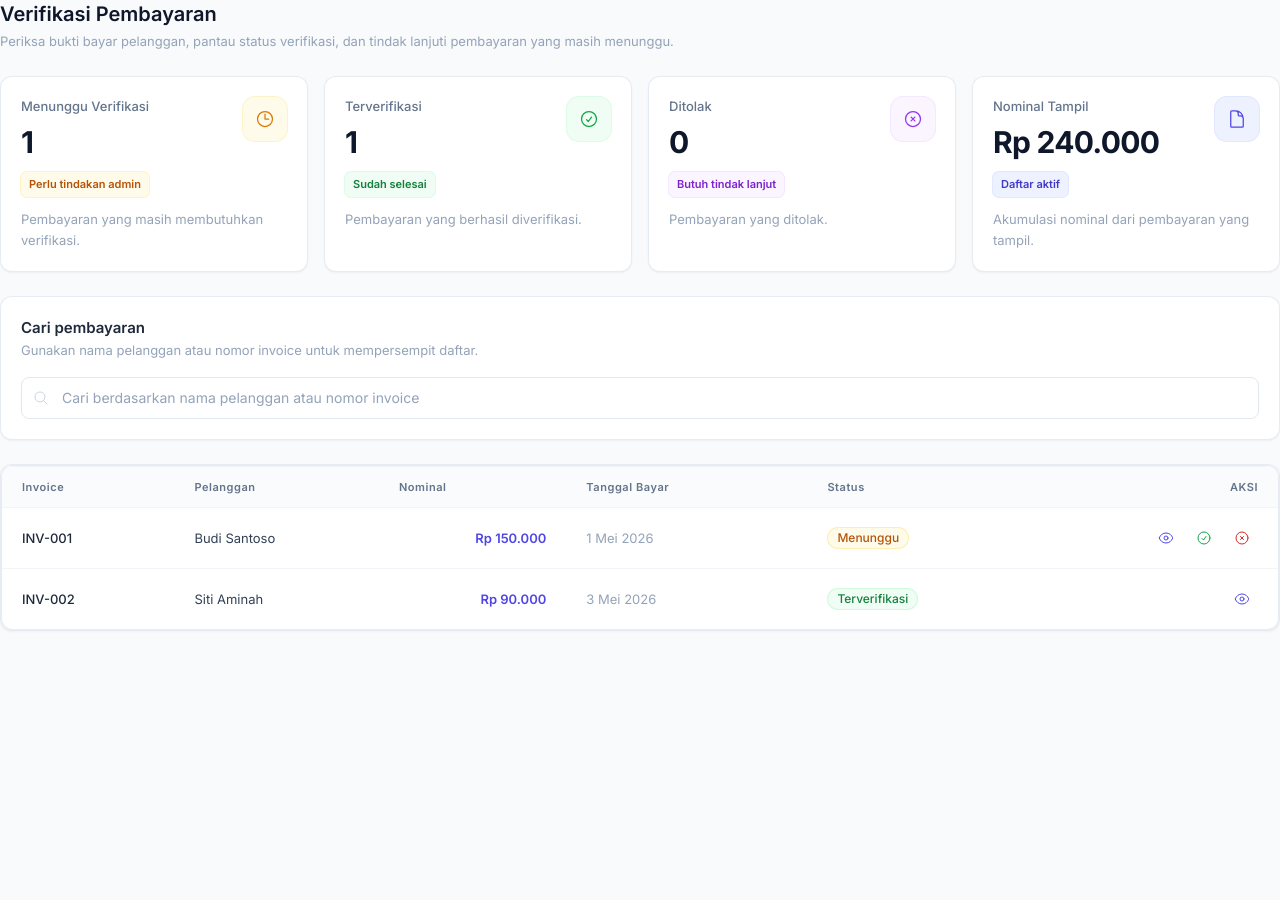
Test: TenantPaymentVerification › verifies a pending payment from the modal flow
The image size is (1280, 900).
Step 1. Click the button named "Verifikasi pembayaran" → point(1204, 538), box x1=1188 y1=522 x2=1220 y2=554
(page scrolled)
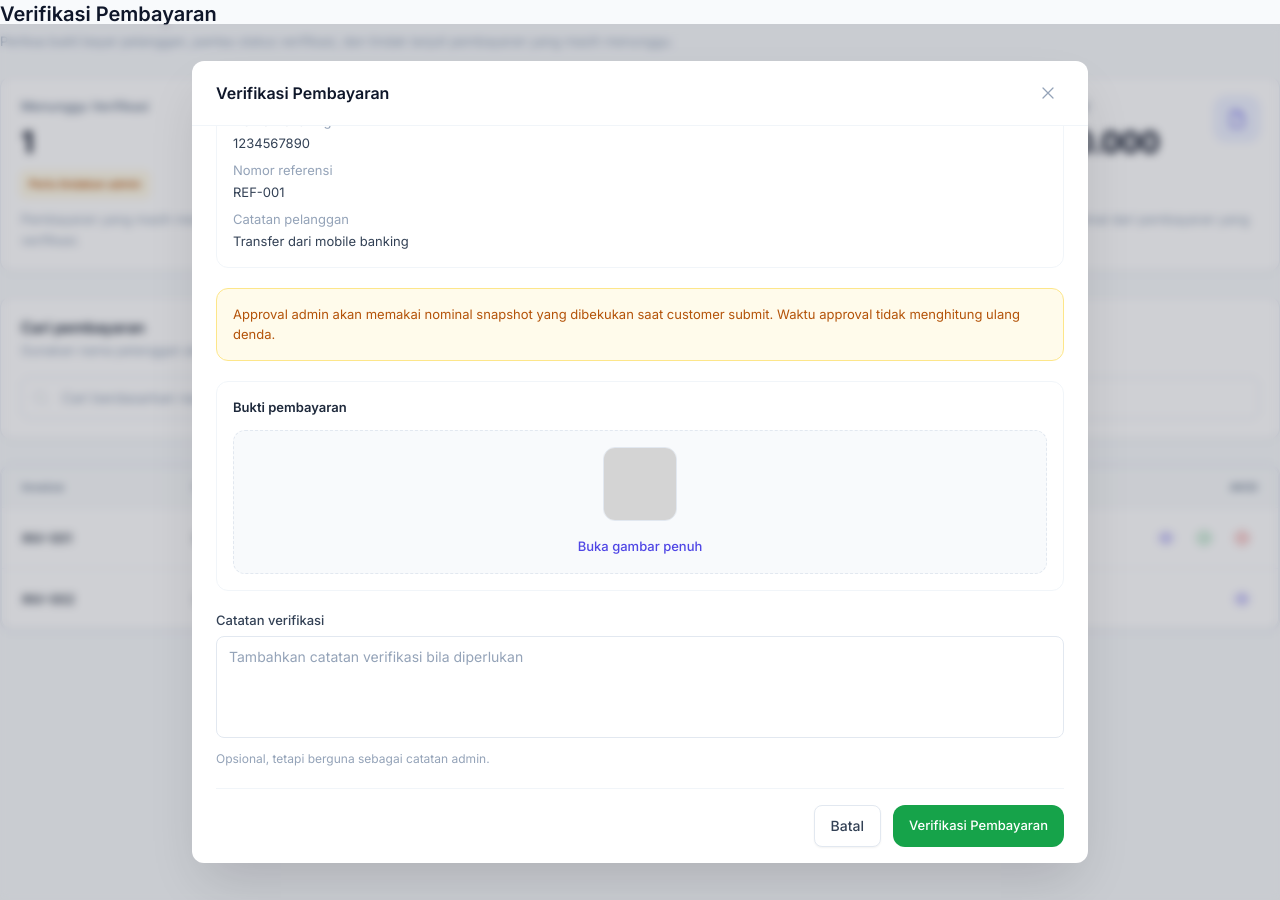
Step 2. Type "Mutasi bank sudah sesuai" into the text box labelled "Catatan verifikasi" → point(640, 687), box x1=216 y1=636 x2=1064 y2=738
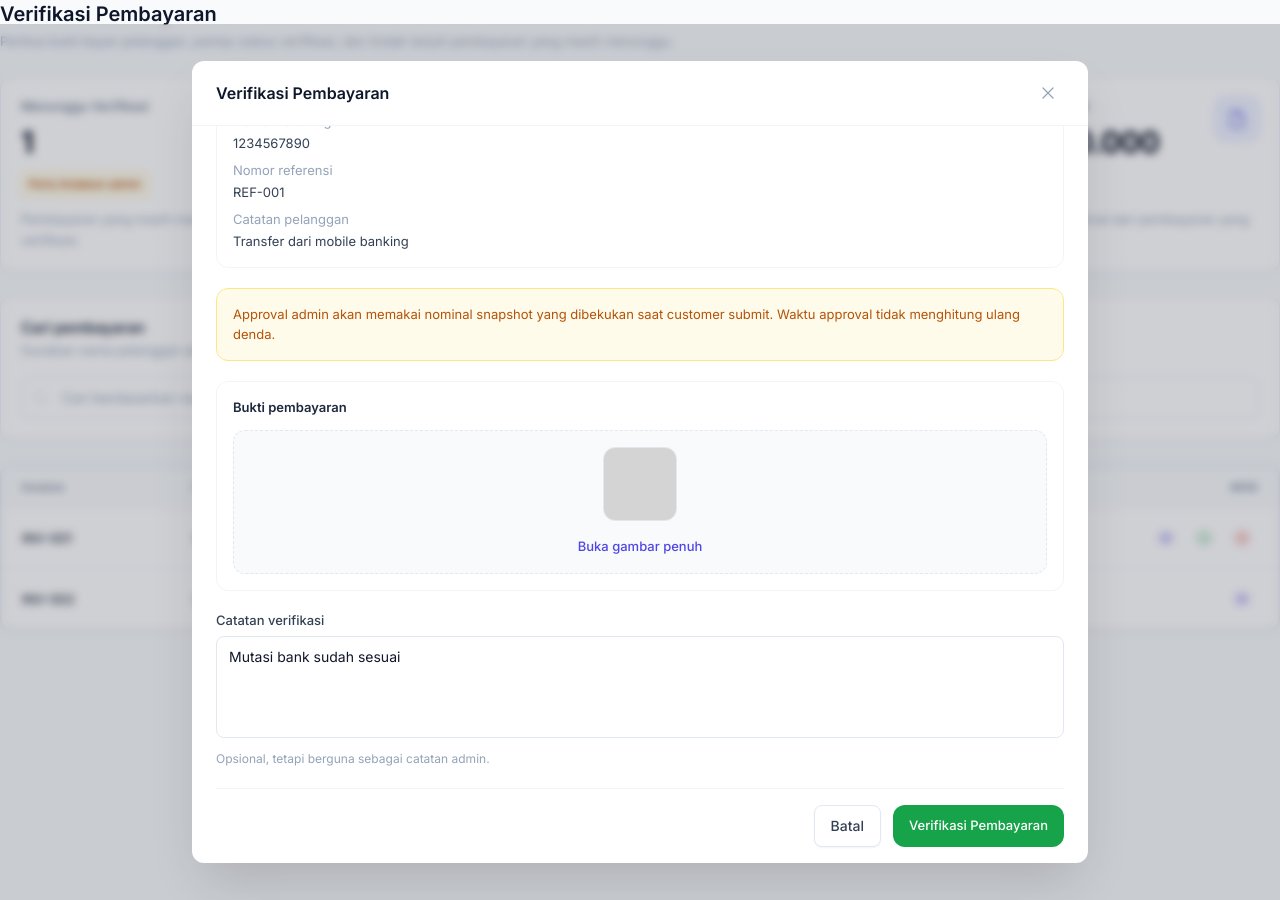
Step 3. Click the button "Verifikasi Pembayaran" → point(979, 826), box x1=893 y1=805 x2=1064 y2=847
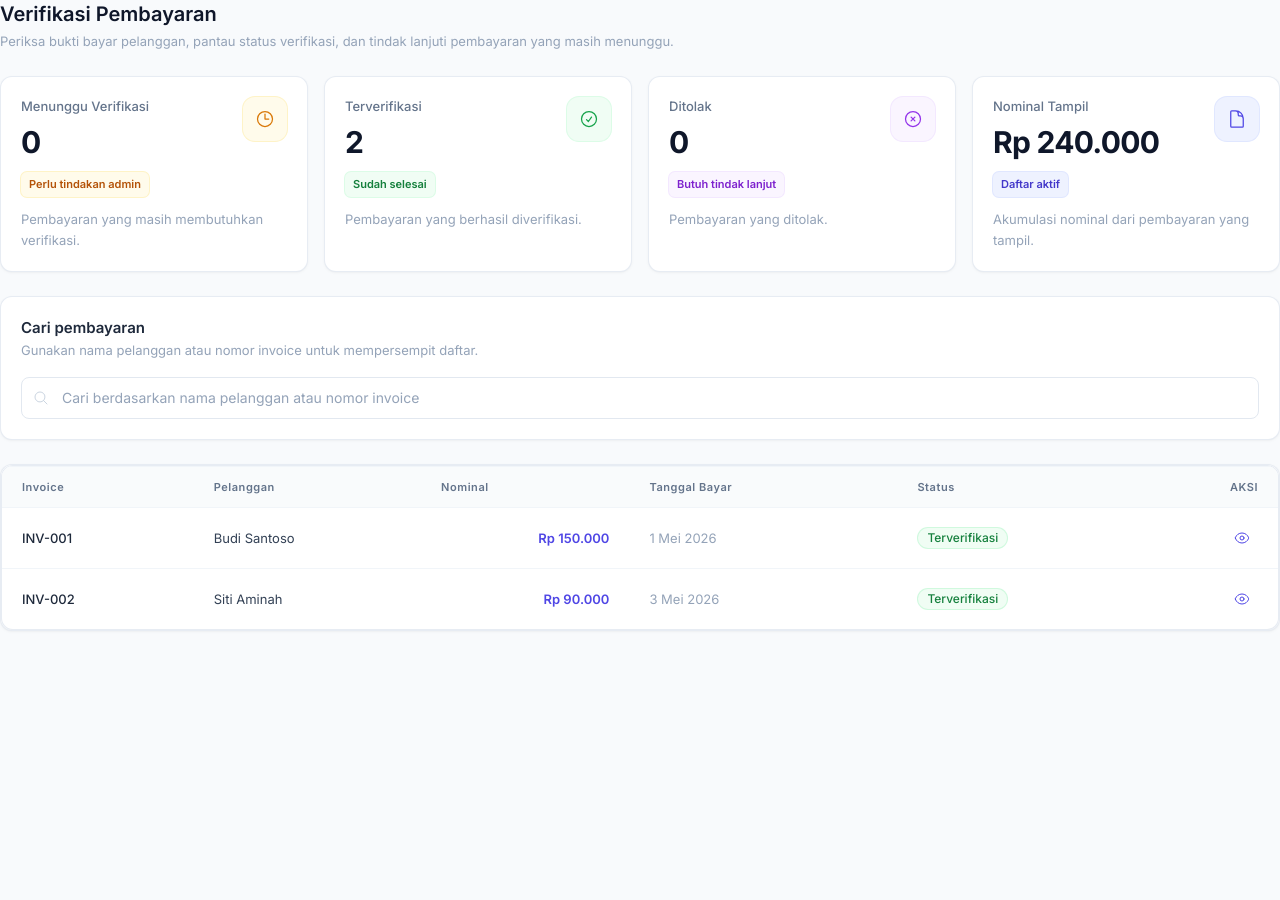
Expected: the dialog is gone
